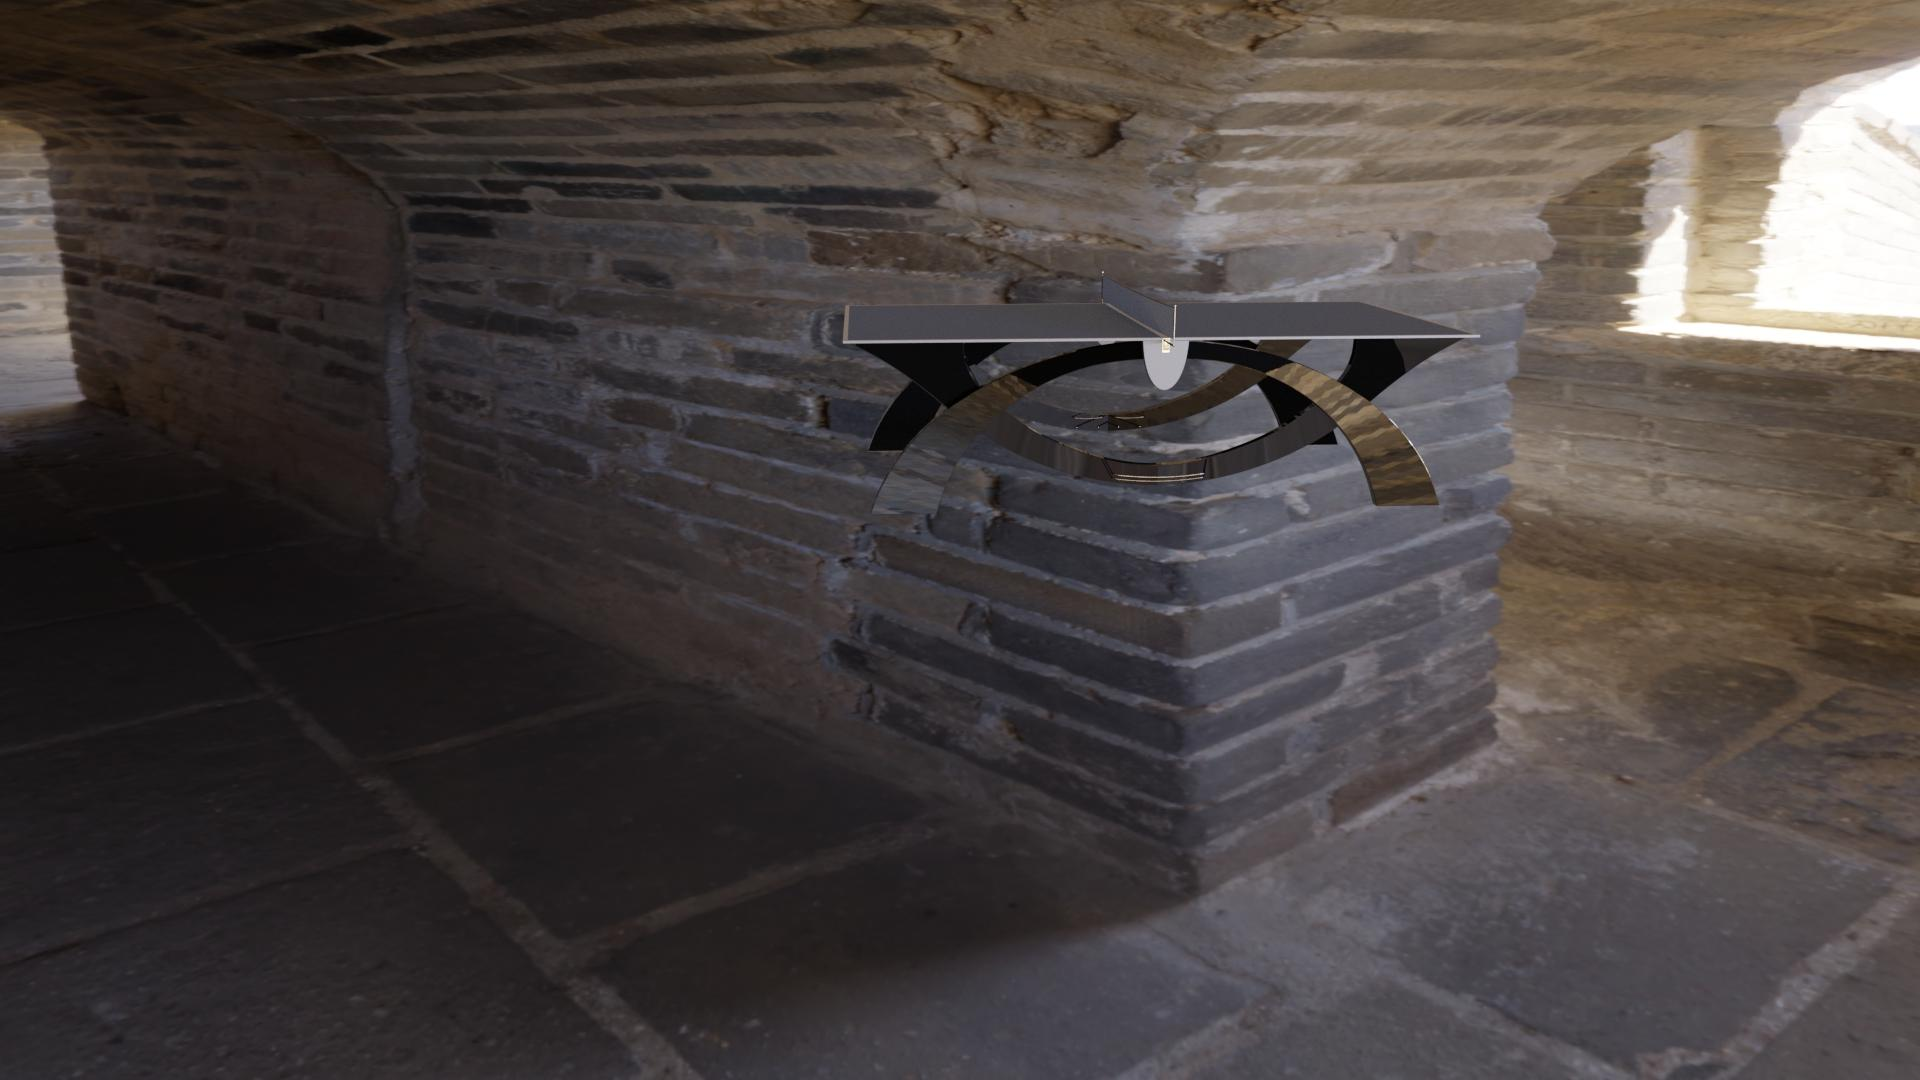table: (848, 302, 1474, 340)
